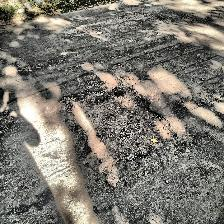pothole: (55, 85, 179, 167)
